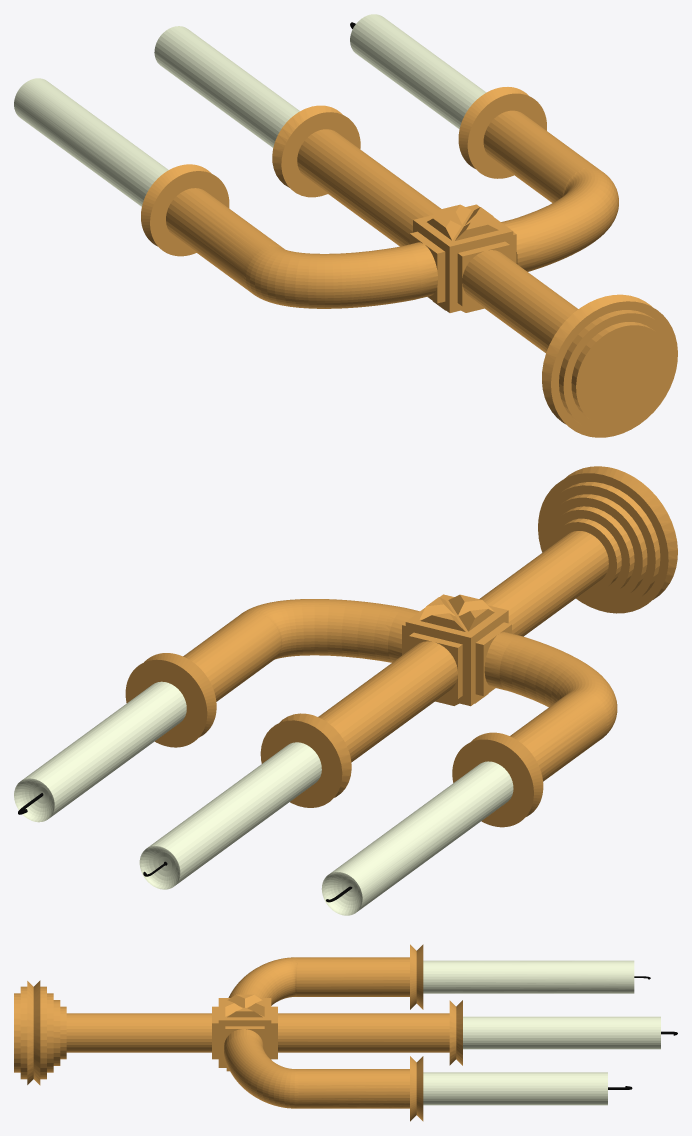
Rendered from multiplecandles.fbx.
The picture shows the model from 3 angles, top to bottom: view 1: azimuth 30°, elevation 25°; view 2: azimuth 150°, elevation 25°; view 3: azimuth 270°, elevation 25°; orthographic projection. The views are drawn at different scales.
Parts seen in each view (by area): view 1: ljus2; view 2: ljus2; view 3: ljus2.
Part boxes in pixels (<box>): ljus2: <box>14,14,677,437</box>; ljus2: <box>14,466,677,915</box>; ljus2: <box>14,944,677,1121</box>.
Bounding box in the file's own units: 24995 × 8000 × 50299.
